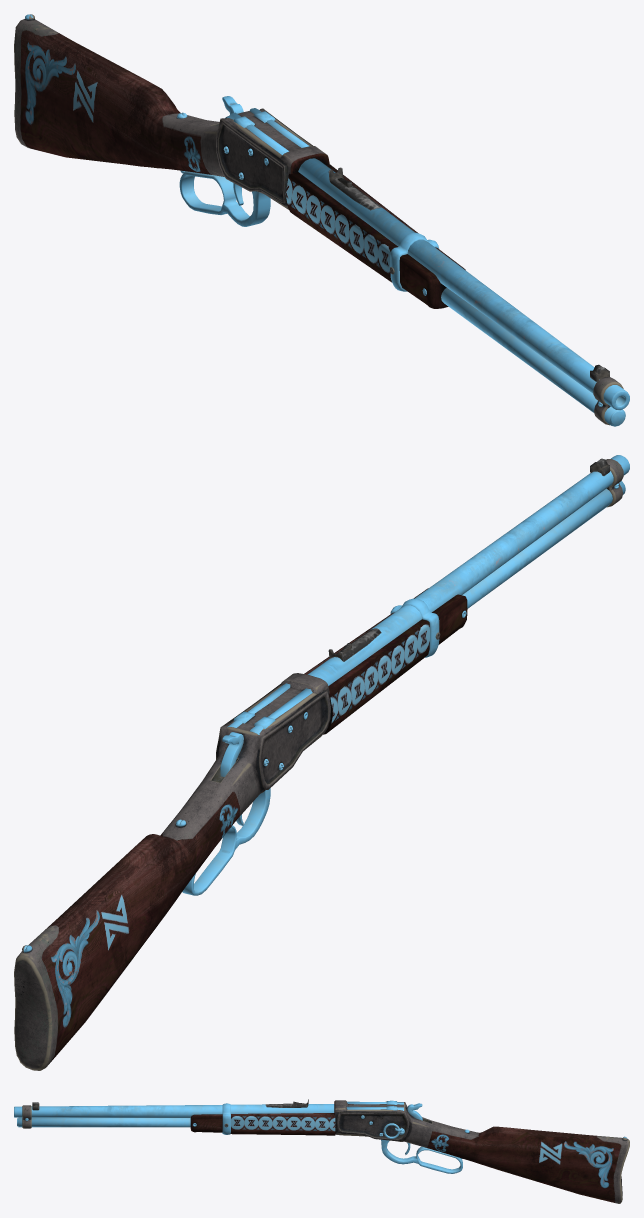
The model's file is Winchester1892NovaBlue.fbx.
3 renders of one model, top to bottom at view 1: azimuth 30°, elevation 25°; view 2: azimuth 150°, elevation 25°; view 3: azimuth 270°, elevation 25°, orthographic. The views are drawn at different scales.
Visible parts, largest first — view 1: Winchester_1892; view 2: Winchester_1892; view 3: Winchester_1892.
Part boxes in pixels (bbox=[...]): Winchester_1892: bbox=[14, 14, 629, 426]; Winchester_1892: bbox=[14, 455, 629, 1070]; Winchester_1892: bbox=[14, 1099, 629, 1203].
Bounding box in the file's own units: 4.65 × 17.17 × 93.25.
1 material, 1 textured.
